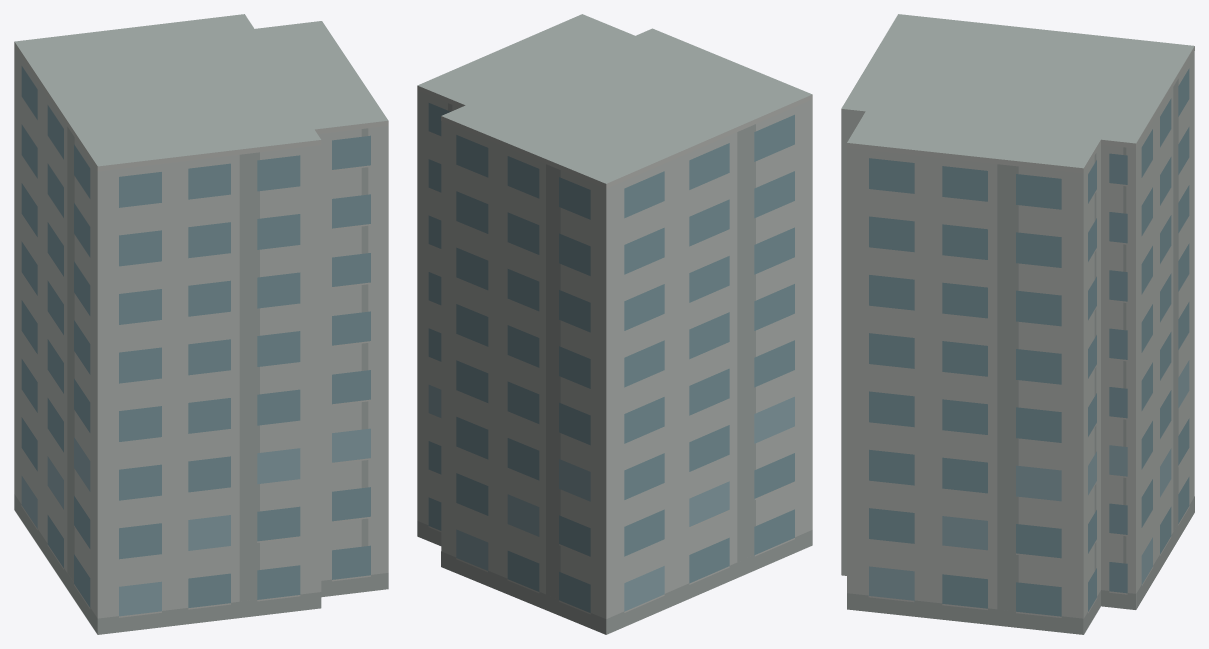
The model's file is residential-36281f97-ff28-4778-857d-00ac8b9ae6ad.glb.
The picture shows the model from 3 angles, left to right: view 1: azimuth 30°, elevation 25°; view 2: azimuth 150°, elevation 25°; view 3: azimuth 270°, elevation 25°; orthographic projection. The views are drawn at different scales.
Parts seen in each view (by area): view 1: residential-36281f97-ff28-4778-857d-00ac8b9ae6ad.tmp; view 2: residential-36281f97-ff28-4778-857d-00ac8b9ae6ad.tmp; view 3: residential-36281f97-ff28-4778-857d-00ac8b9ae6ad.tmp.
Boxes of the visible parts, box(x1,y1,x2,y2) form: residential-36281f97-ff28-4778-857d-00ac8b9ae6ad.tmp: box(14, 14, 388, 634); residential-36281f97-ff28-4778-857d-00ac8b9ae6ad.tmp: box(417, 14, 812, 634); residential-36281f97-ff28-4778-857d-00ac8b9ae6ad.tmp: box(841, 14, 1194, 634).
Size of the model in its own units: 15.61 by 22 by 15.12.
